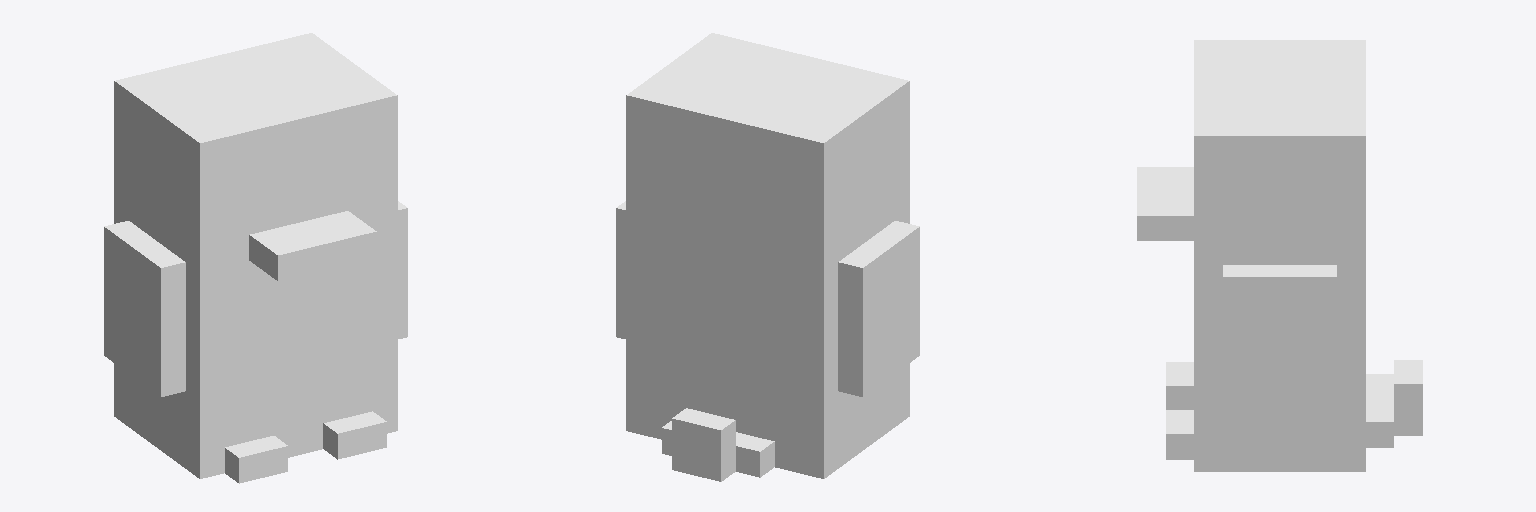
File: pinguinoAnimal.obj
3 views of the same model, side by side, from view 1: azimuth 30°, elevation 25°; view 2: azimuth 150°, elevation 25°; view 3: azimuth 270°, elevation 25° (orthographic).
Parts seen in each view (by area): view 1: object 1; view 2: object 1; view 3: object 1.
Part boxes in pixels (bbox=[...]): object 1: bbox=[104, 33, 407, 483]; object 1: bbox=[616, 33, 919, 481]; object 1: bbox=[1137, 40, 1422, 471].
Size of the model in its own units: 1 by 1.3 by 1.